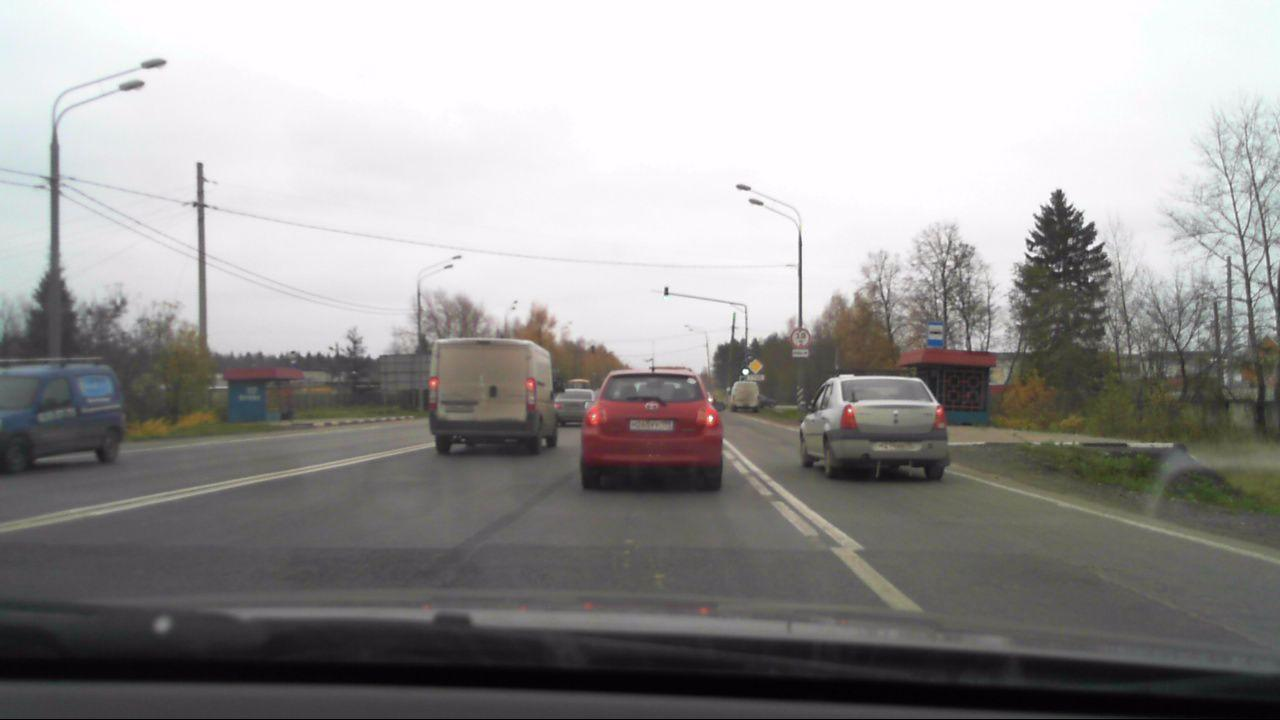2_1: (749, 358, 764, 372)
3_13: (790, 326, 810, 348)
5_16: (926, 319, 947, 348)
6_16: (746, 374, 767, 381)
8_1_3: (791, 349, 809, 358)
